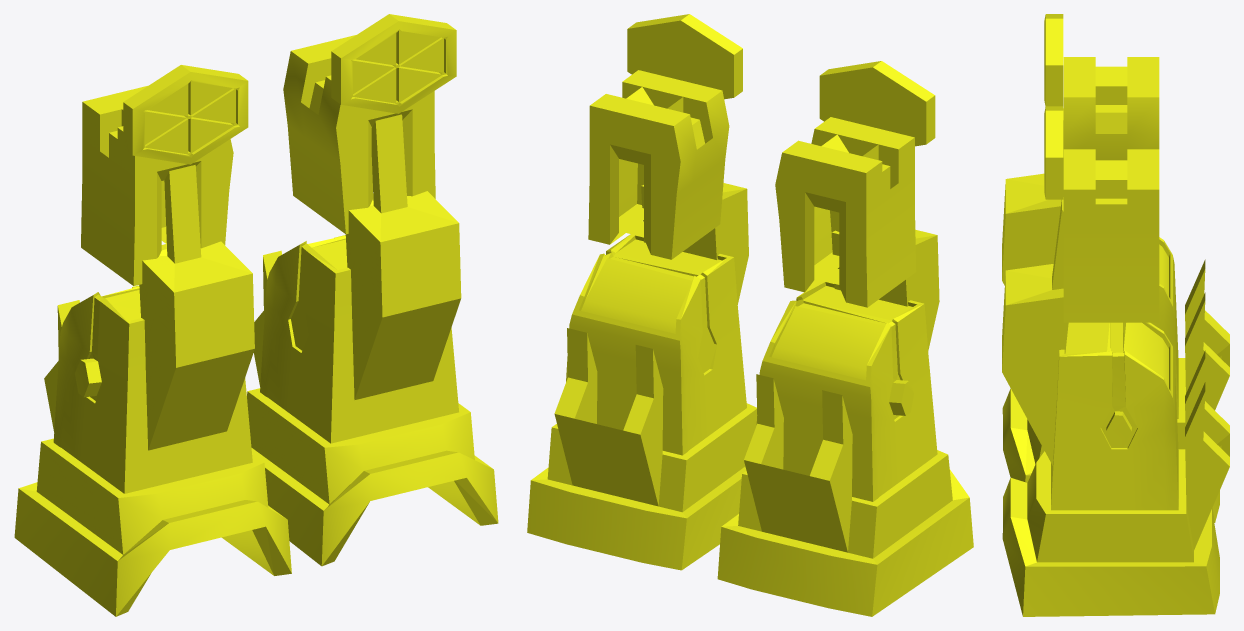
Rendered from armar_leg.FBX.
The picture shows the model from 3 angles, left to right: view 1: azimuth 30°, elevation 25°; view 2: azimuth 150°, elevation 25°; view 3: azimuth 270°, elevation 25°; orthographic projection. The views are drawn at different scales.
Parts seen in each view (by area): view 1: foot_l; view 2: foot_l; view 3: foot_l.
Part boxes in pixels (<box>): foot_l: <box>14,14,498,616</box>; foot_l: <box>527,14,973,616</box>; foot_l: <box>1002,14,1229,616</box>.
Bounding box in the file's own units: 25.88 × 33.31 × 14.7.
